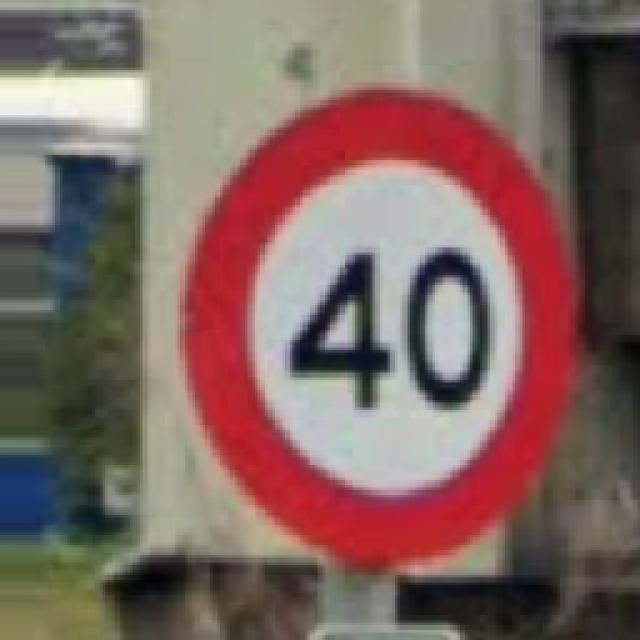Speed Limit -40-: (185, 90, 572, 568)
